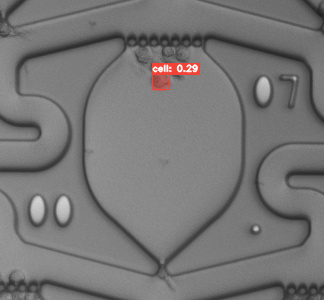AptNum: (248, 68, 308, 116)
Marker: (246, 219, 268, 240)
StNum: (20, 185, 84, 236)
Trap: (134, 257, 191, 300)
